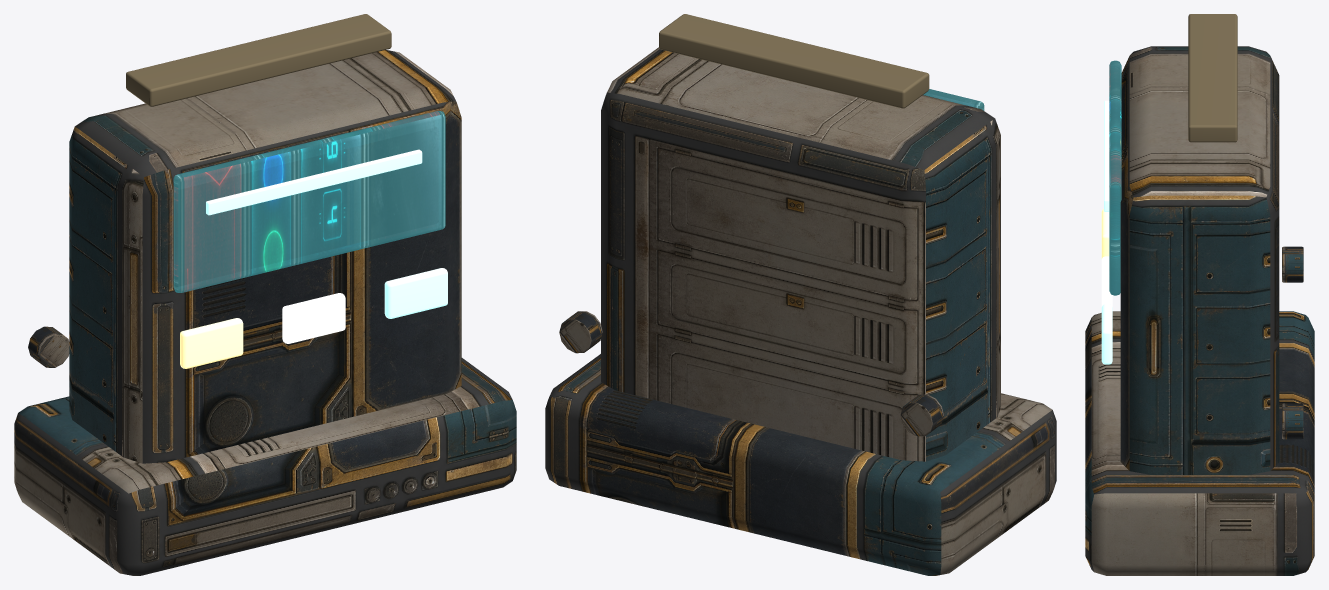
The model's file is hp_terminal_family_light_control_pedestal.glb.
3 views of the same model, side by side, from view 1: azimuth 30°, elevation 25°; view 2: azimuth 150°, elevation 25°; view 3: azimuth 270°, elevation 25° (orthographic). The views are drawn at different scales.
Visible parts, largest first — view 1: sloped_control_body, grounded_pedestal_base, image2_recessed_light_sequence_screen, blank_sequence_tray_no_answer, cyan_screen_baseline, large_color_button_0, large_color_button_1, large_color_button_2, rear_cable_socket; view 2: sloped_control_body, grounded_pedestal_base, blank_sequence_tray_no_answer, rear_cable_socket, rear_cable_socket.001; view 3: sloped_control_body, grounded_pedestal_base, blank_sequence_tray_no_answer, image2_recessed_light_sequence_screen, rear_cable_socket.001, rear_cable_socket, large_color_button_2, cyan_screen_baseline, large_color_button_1, large_color_button_0.
Boxes of the visible parts, <box> form: sloped_control_body: <box>69,50,461,463</box>; grounded_pedestal_base: <box>14,358,516,575</box>; image2_recessed_light_sequence_screen: <box>173,111,445,292</box>; blank_sequence_tray_no_answer: <box>126,14,391,106</box>; cyan_screen_baseline: <box>206,149,422,215</box>; large_color_button_0: <box>180,318,243,368</box>; large_color_button_1: <box>282,293,345,343</box>; large_color_button_2: <box>384,268,447,318</box>; rear_cable_socket: <box>28,326,69,367</box>; sloped_control_body: <box>601,47,1000,461</box>; grounded_pedestal_base: <box>545,354,1056,575</box>; blank_sequence_tray_no_answer: <box>659,14,929,108</box>; rear_cable_socket: <box>900,394,943,436</box>; rear_cable_socket.001: <box>559,311,602,353</box>; sloped_control_body: <box>1120,46,1279,474</box>; grounded_pedestal_base: <box>1085,311,1314,575</box>; blank_sequence_tray_no_answer: <box>1188,14,1237,142</box>; image2_recessed_light_sequence_screen: <box>1109,60,1121,295</box>; rear_cable_socket.001: <box>1282,403,1303,439</box>; rear_cable_socket: <box>1282,246,1303,282</box>; large_color_button_2: <box>1101,304,1112,364</box>; cyan_screen_baseline: <box>1104,100,1109,211</box>; large_color_button_1: <box>1101,256,1112,306</box>; large_color_button_0: <box>1101,209,1109,258</box>.
Bounding box in the file's own units: 1.02 × 1.07 × 0.5303.
7 materials, 3 textured.
